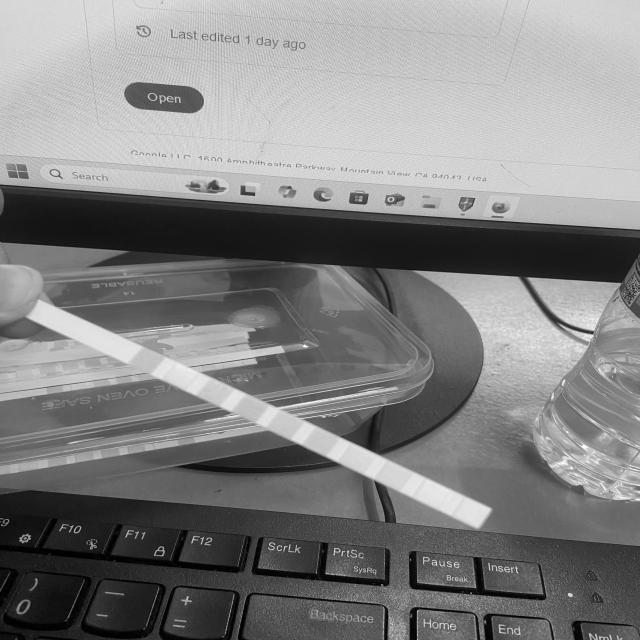Bilirubin: (170, 370, 192, 382)
Blood: (274, 418, 296, 431)
Glucose: (137, 354, 157, 366)
Ketone: (205, 386, 226, 398)
Leukocytes: (458, 506, 484, 519)
Nitrite: (419, 487, 443, 500)
Protein: (346, 451, 370, 465)
SpGravity: (238, 402, 262, 414)
Urobilinogen: (381, 468, 405, 483)
background: (0, 0, 640, 640)
pH: (310, 436, 333, 448)
strip: (25, 299, 493, 529)
